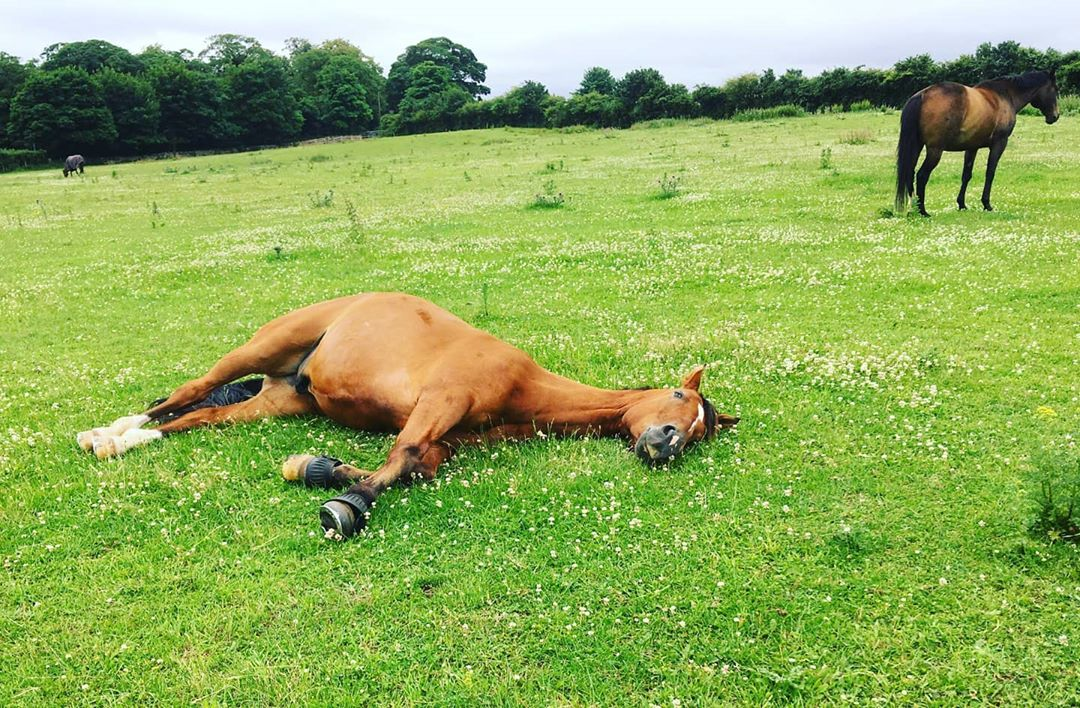Horse: (55, 259, 755, 584), (865, 50, 1072, 222), (40, 145, 108, 177)
